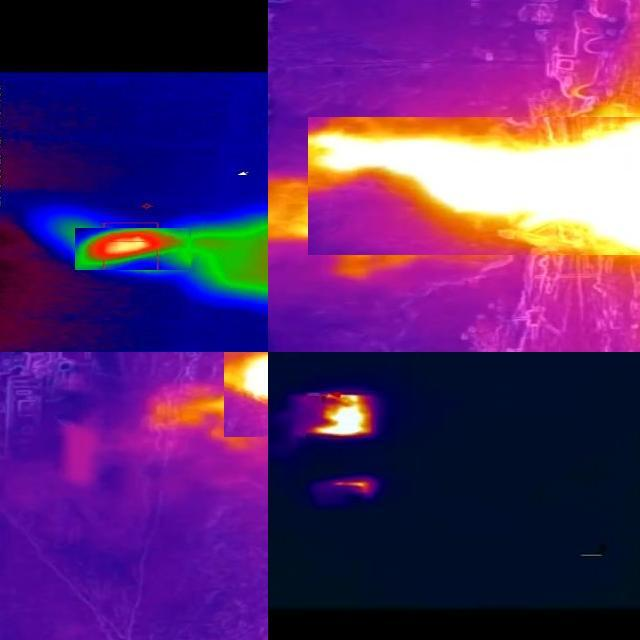fire: (308, 118, 640, 256), (75, 229, 191, 271), (306, 393, 376, 439), (239, 356, 269, 408), (329, 480, 378, 496)
